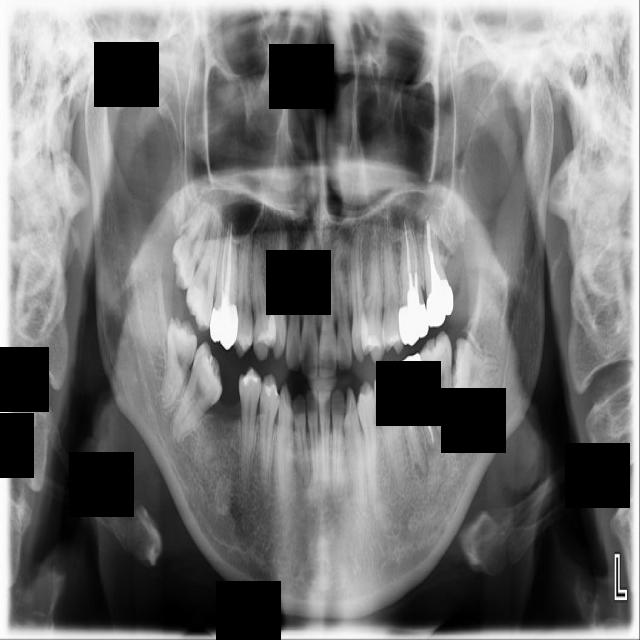3M ESPE Implant: (160, 196, 217, 293)
52: (383, 352, 431, 395), (233, 364, 266, 411), (208, 302, 240, 350), (397, 303, 430, 348), (425, 286, 455, 328), (259, 373, 281, 418)
73: (394, 379, 441, 454), (213, 219, 248, 312), (421, 214, 451, 298), (399, 216, 425, 308), (609, 560, 611, 580)
BioHorizons Implant: (420, 211, 456, 329)
Biomet 3i Implant: (444, 335, 503, 411)
Blue Sky Bio Implant: (417, 330, 462, 461)
Caries: (181, 203, 226, 333)
Implant: (166, 339, 235, 452)
Keystone Dental Implant: (158, 315, 200, 413)
